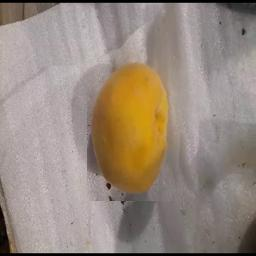Peach Semifresh: (88, 60, 187, 202)
